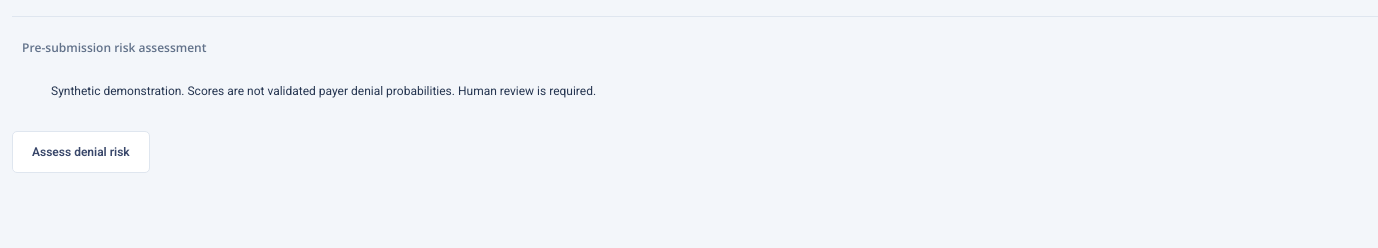
Test case: claim assessment › does not display a low score on failure
The width and height of the screenshot is (1378, 248).
Click the button "Assess denial risk": click(81, 152) left=12, top=131, right=150, bottom=173
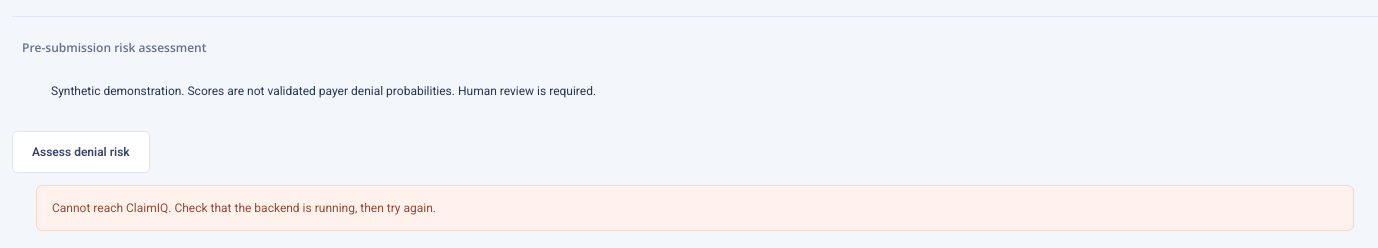
expect the message "Cannot reach ClaimIQ. Check that the backend is running, then try again." is shown: met, box left=36, top=185, right=1354, bottom=231
